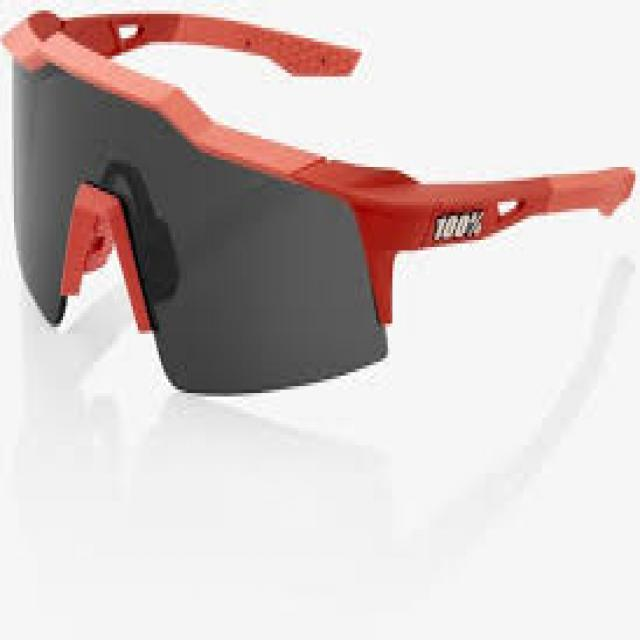suspicious-objects: (0, 11, 411, 390)
